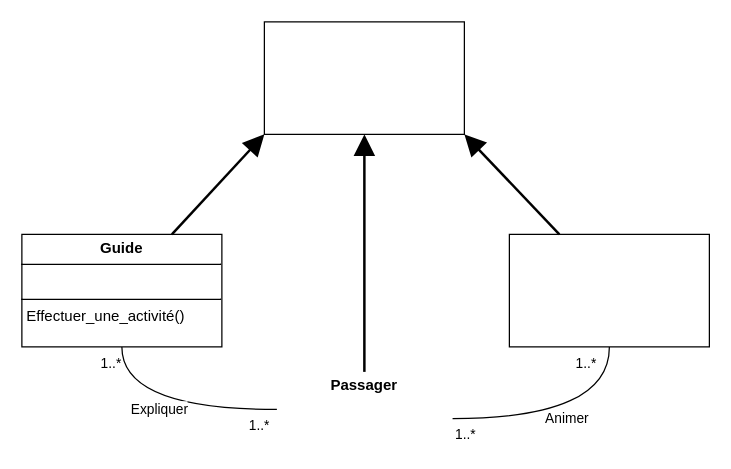
This 731x469 diagram has some shape labels left out. The box of each missing label's shape, as (x1, y1, x2, y2) in pixels:
Animateur Effectuer_une_activité(): (508, 233, 709, 347)
Personne id: entier Effectuer_une_activité(): (263, 21, 464, 134)
